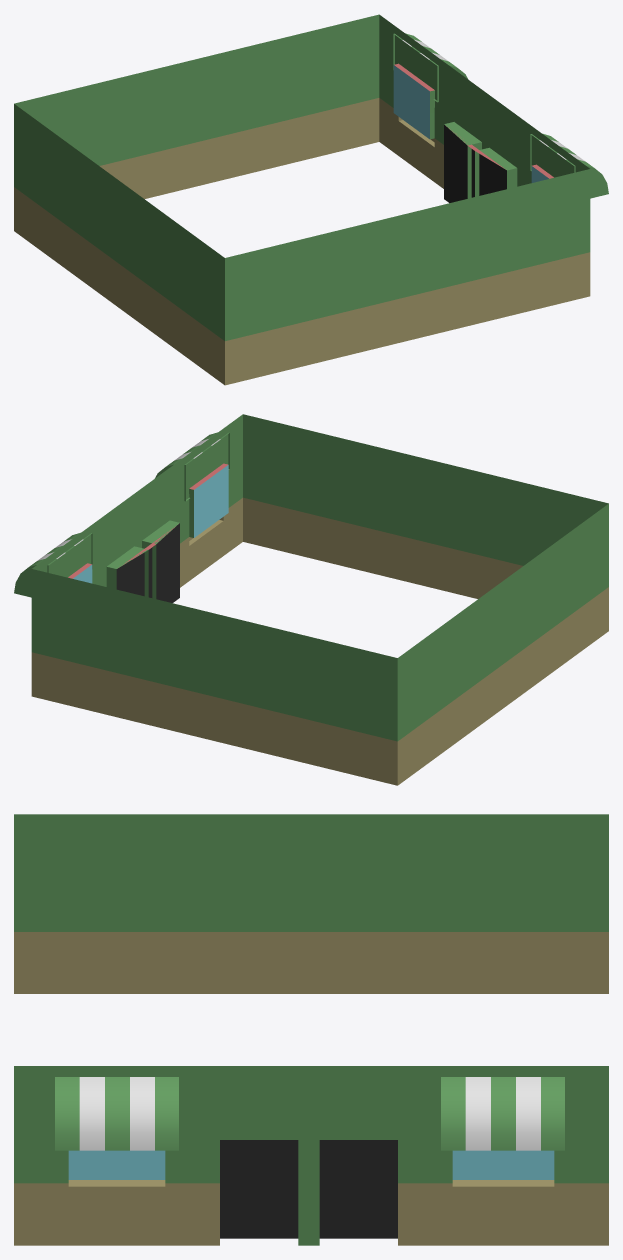
Rendered from SkyScraper_Bottom_04_green.fbx.
3 views of the same model, one above another, from view 1: azimuth 30°, elevation 25°; view 2: azimuth 150°, elevation 25°; view 3: azimuth 270°, elevation 25° (orthographic). The views are drawn at different scales.
Parts seen in each view (by area): view 1: polySurface164; view 2: polySurface164; view 3: polySurface164.
Part boxes in pixels (left/top/right/bottom): polySurface164: left=14, top=14, right=608, bottom=385; polySurface164: left=14, top=414, right=608, bottom=785; polySurface164: left=14, top=814, right=608, bottom=1245.
Bounding box in the file's own units: 105 × 32 × 96.
